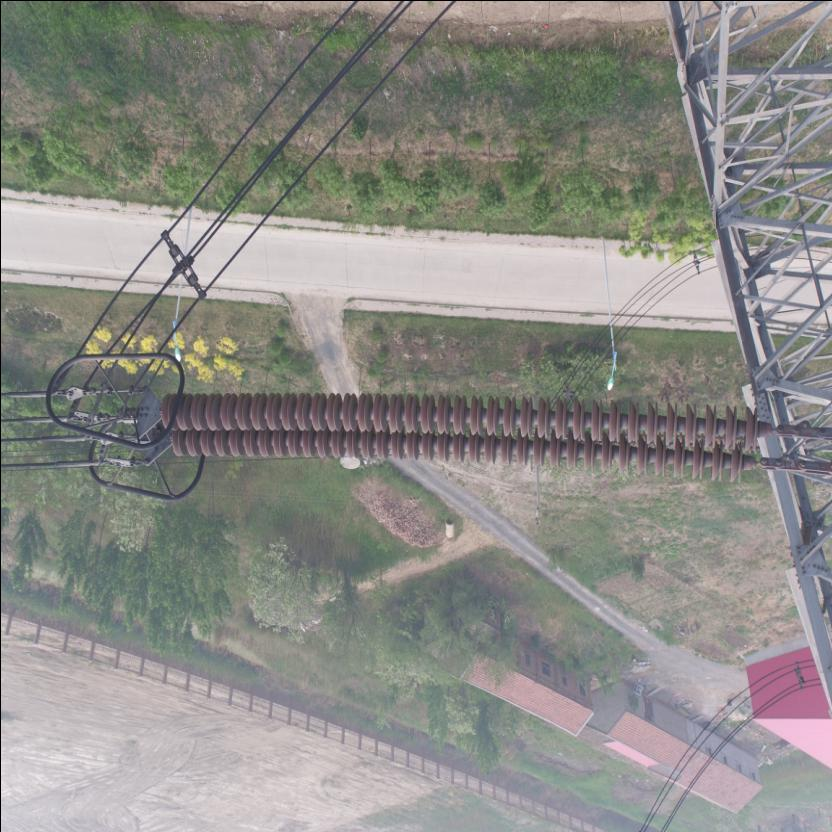insulator: (151, 392, 817, 489)
